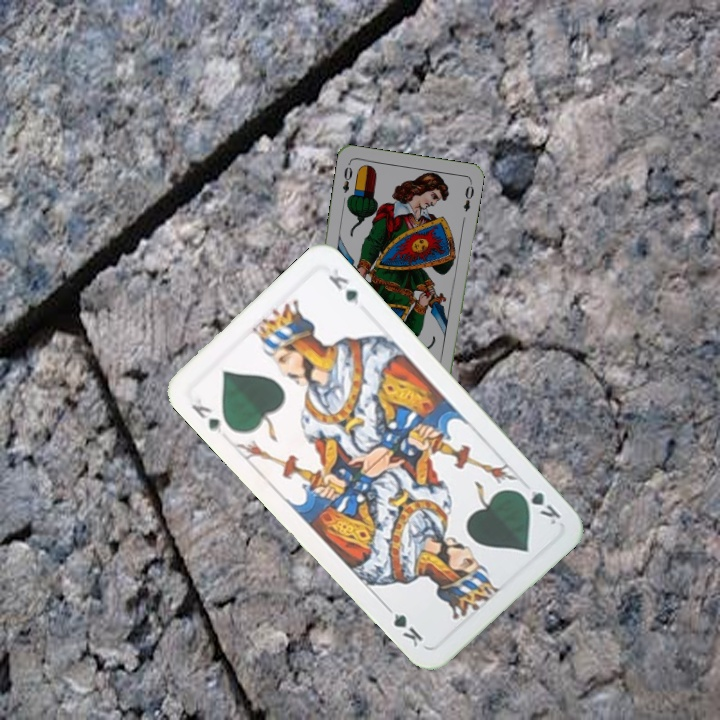EO: (338, 162, 355, 195)
GK: (513, 485, 563, 527), (187, 394, 225, 436)
